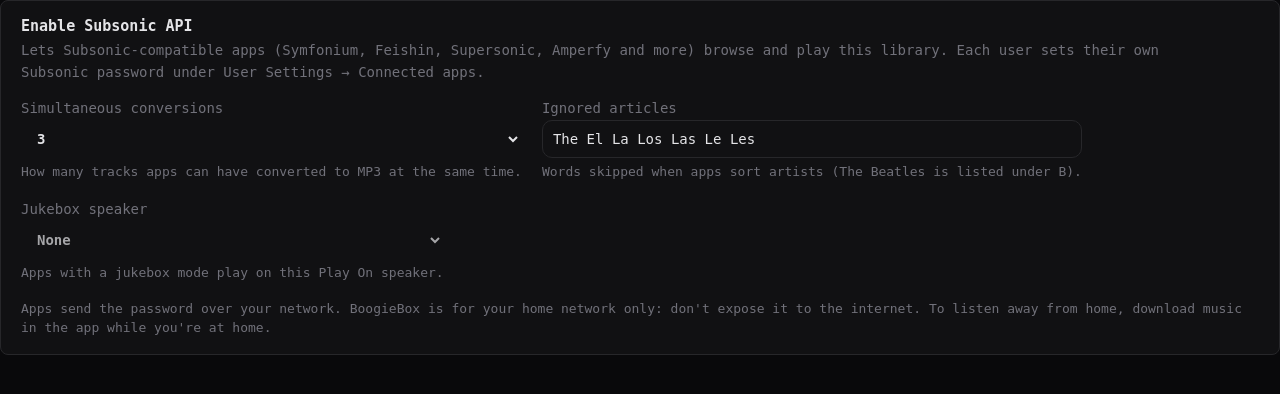
Test case: SubsonicSettings › reports save errors and tolerates a failed status load
The image size is (1280, 394).
Select "8" in the dropdown labelled "Simultaneous conversions" at (271, 139), box [21,120,522,158]
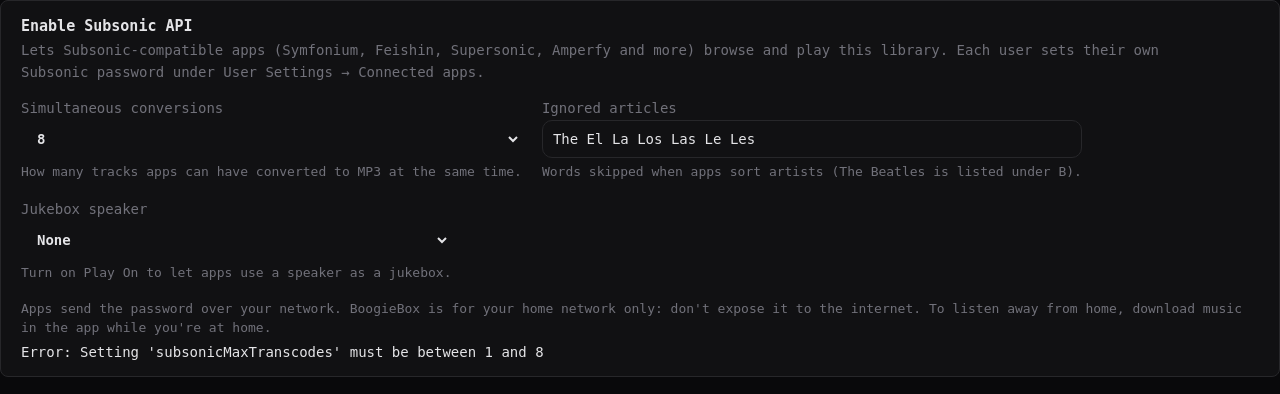
expect the text "Error: Setting 'subsonicMaxTranscodes' must be between 1 and 8" is shown: met, box [21,344,544,360]
